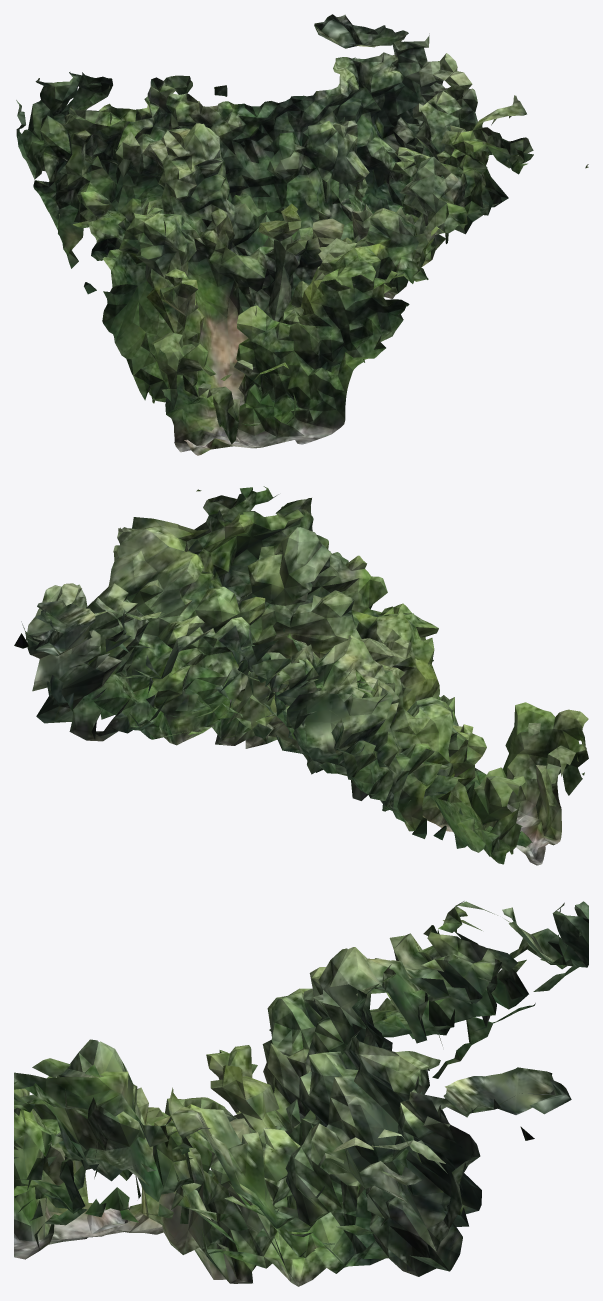
3 views of the same model, one above another, from view 1: azimuth 30°, elevation 25°; view 2: azimuth 150°, elevation 25°; view 3: azimuth 270°, elevation 25° (orthographic). The views are drawn at different scales.
Size of the model in its own units: 104 by 67.52 by 104.
7 materials, 7 textured.
